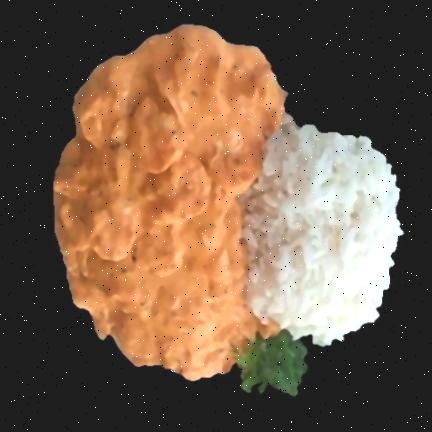chicken: (53, 26, 285, 377)
rice: (243, 116, 402, 345)
